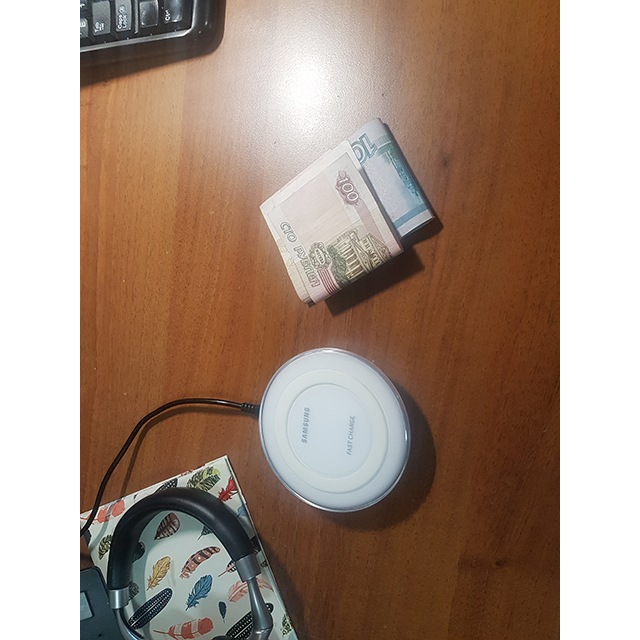banknotes: (260, 117, 436, 305)
